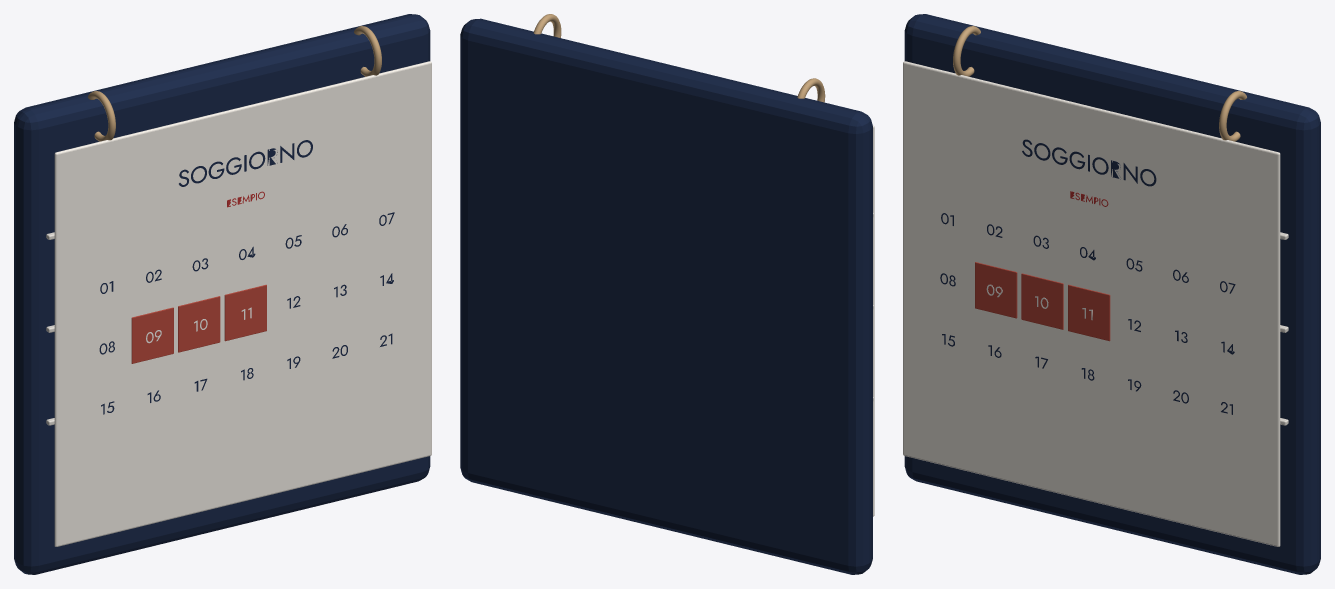
File: 10_calendar.glb
The picture shows the model from 3 angles, left to right: view 1: azimuth 30°, elevation 25°; view 2: azimuth 150°, elevation 25°; view 3: azimuth 330°, elevation 25°; orthographic projection.
Visible parts, largest first — view 1: Calendar_Page, Calendar_Back, Calendar_Booked_Cell.002, Calendar_Booked_Cell.001, Calendar_Booked_Cell, Calendar_Title, Calendar_Ring.001, Calendar_Ring; view 2: Calendar_Back, Calendar_Page; view 3: Calendar_Page, Calendar_Back, Calendar_Booked_Cell.002, Calendar_Booked_Cell.001, Calendar_Booked_Cell, Calendar_Title, Calendar_Ring, Calendar_Ring.001.
Part boxes in pixels (<box>): Calendar_Page: <box>54,61,431,546</box>; Calendar_Back: <box>14,14,430,574</box>; Calendar_Booked_Cell.002: <box>224,284,266,341</box>; Calendar_Booked_Cell.001: <box>178,296,220,352</box>; Calendar_Booked_Cell: <box>131,307,173,363</box>; Calendar_Title: <box>179,140,312,186</box>; Calendar_Ring.001: <box>354,26,381,76</box>; Calendar_Ring: <box>88,91,115,141</box>; Calendar_Back: <box>460,18,872,574</box>; Calendar_Page: <box>873,125,874,516</box>; Calendar_Page: <box>903,61,1280,546</box>; Calendar_Back: <box>904,14,1320,574</box>; Calendar_Booked_Cell.002: <box>1068,284,1110,341</box>; Calendar_Booked_Cell.001: <box>1021,273,1063,329</box>; Calendar_Booked_Cell: <box>975,262,1017,318</box>; Calendar_Title: <box>1022,139,1156,186</box>; Calendar_Ring: <box>953,26,980,76</box>; Calendar_Ring.001: <box>1219,91,1246,141</box>.
Size of the model in its own units: 0.37 by 0.409 by 0.0526.
